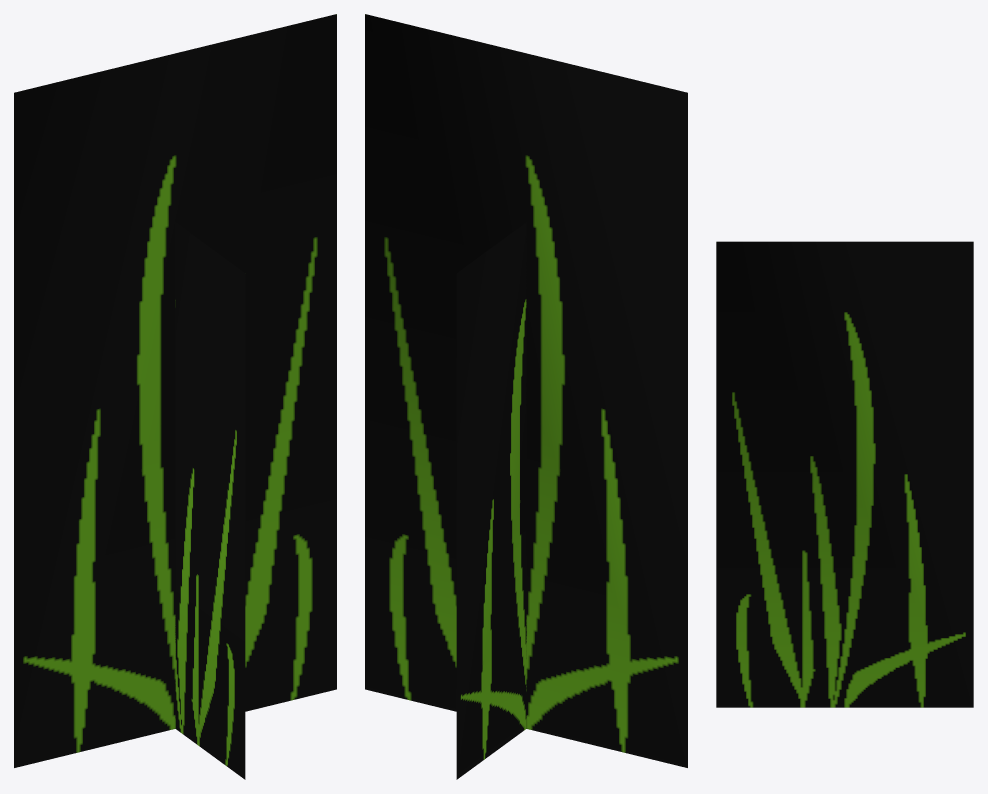
The model's file is foliage_1.gltf.
3 renders of one model, left to right at view 1: azimuth 30°, elevation 25°; view 2: azimuth 150°, elevation 25°; view 3: azimuth 270°, elevation 25°, orthographic. The views are drawn at different scales.
Visible parts, largest first — view 1: 01_d; view 2: 01_d; view 3: 01_d.
Boxes of the visible parts, box(x1,y1,x2,y2) form: 01_d: box(14, 14, 336, 779); 01_d: box(365, 14, 687, 779); 01_d: box(716, 241, 973, 707).
Size of the model in its own units: 0.16 by 0.32 by 0.12.
1 material, 1 textured.
